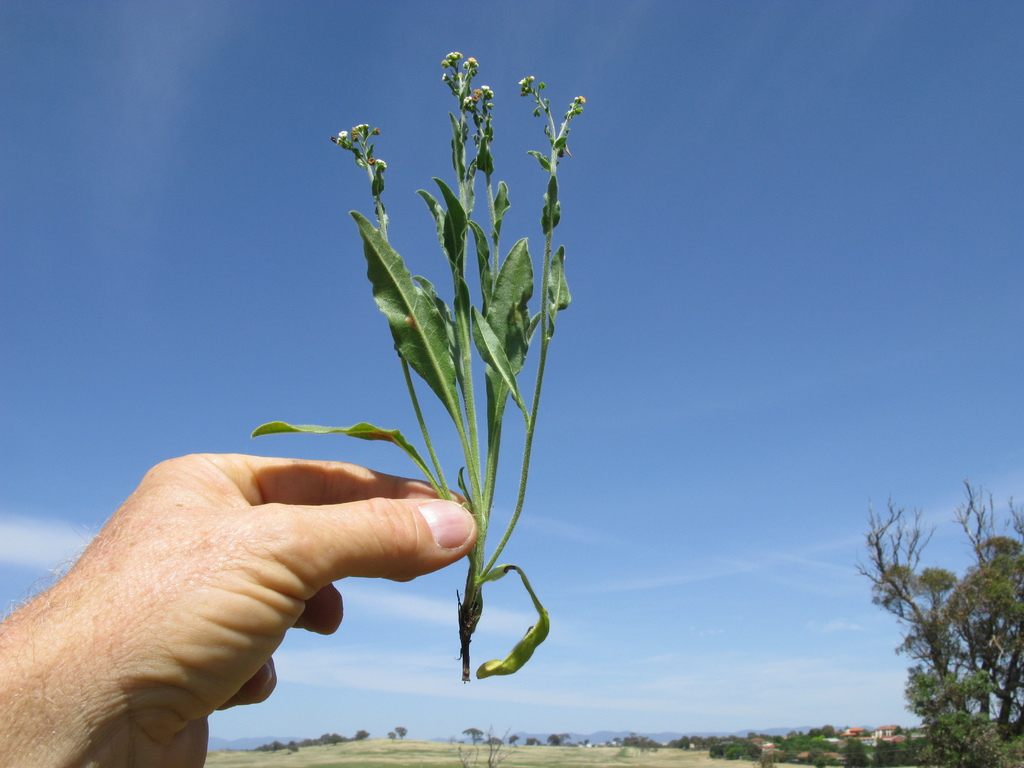Tree: (849, 469, 1023, 767), (768, 725, 850, 767), (250, 730, 369, 754), (461, 725, 579, 748), (673, 733, 766, 758), (615, 730, 668, 752), (395, 727, 408, 741), (386, 730, 398, 741)
